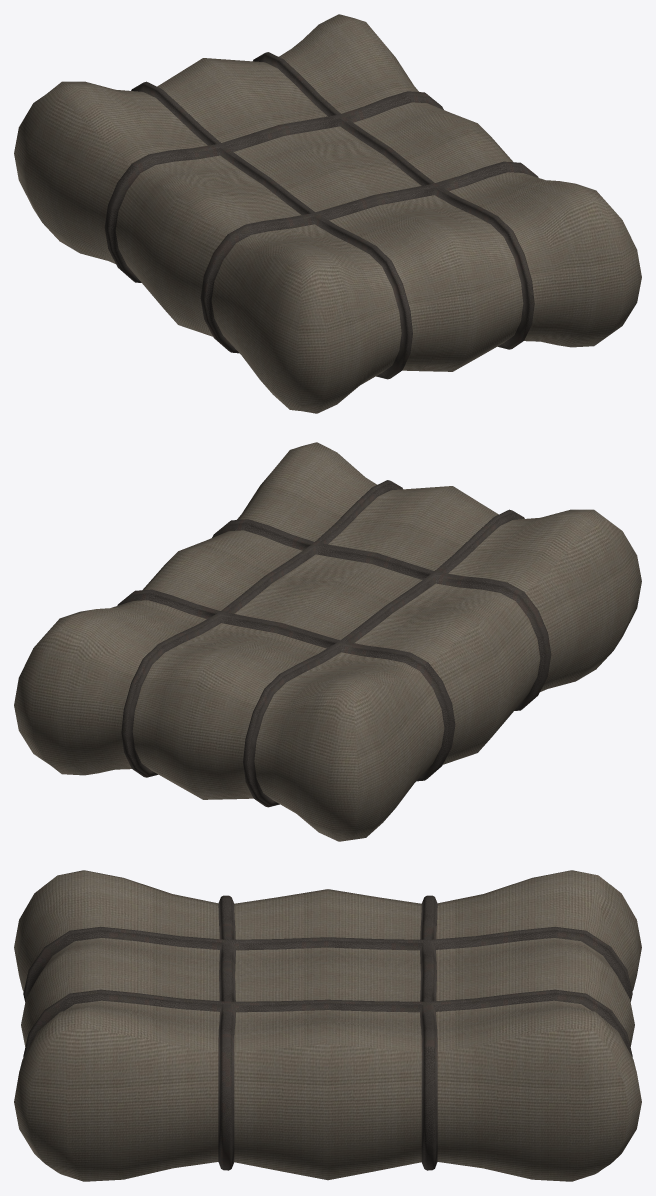
The model's file is bundle.fbx.
3 renders of one model, top to bottom at view 1: azimuth 30°, elevation 25°; view 2: azimuth 150°, elevation 25°; view 3: azimuth 270°, elevation 25°, orthographic. The views are drawn at different scales.
Parts seen in each view (by area): view 1: MGH-Bundle_1306.Shape; view 2: MGH-Bundle_1306.Shape; view 3: MGH-Bundle_1306.Shape.
Part boxes in pixels (box(x1,y1,x2,y2)): MGH-Bundle_1306.Shape: box(14, 14, 641, 413); MGH-Bundle_1306.Shape: box(14, 442, 641, 841); MGH-Bundle_1306.Shape: box(14, 870, 641, 1181).
Bounding box in the file's own units: 61.83 × 25.97 × 88.44.
2 materials, 2 textured.
